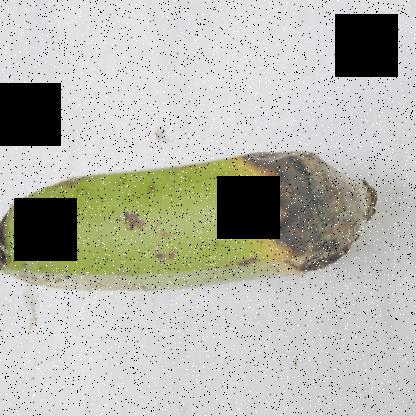rotten: (231, 119, 382, 289), (0, 189, 19, 291)
